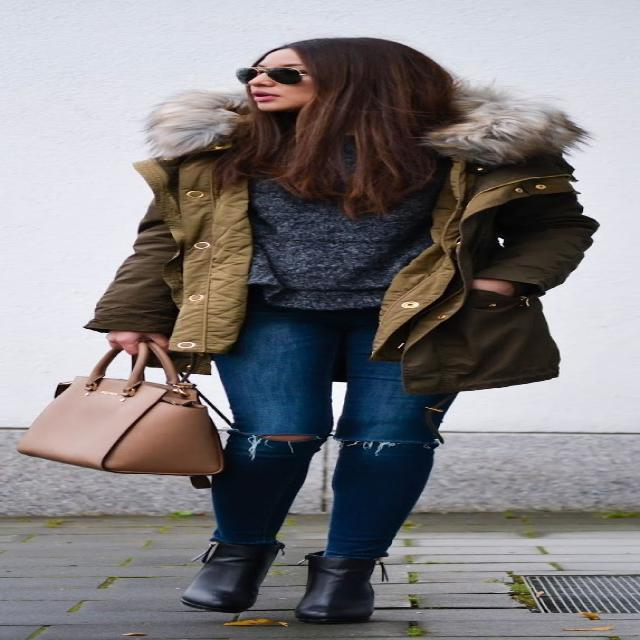coat: (80, 82, 605, 395)
sweater: (234, 124, 446, 307)
trousers: (208, 306, 458, 563)
